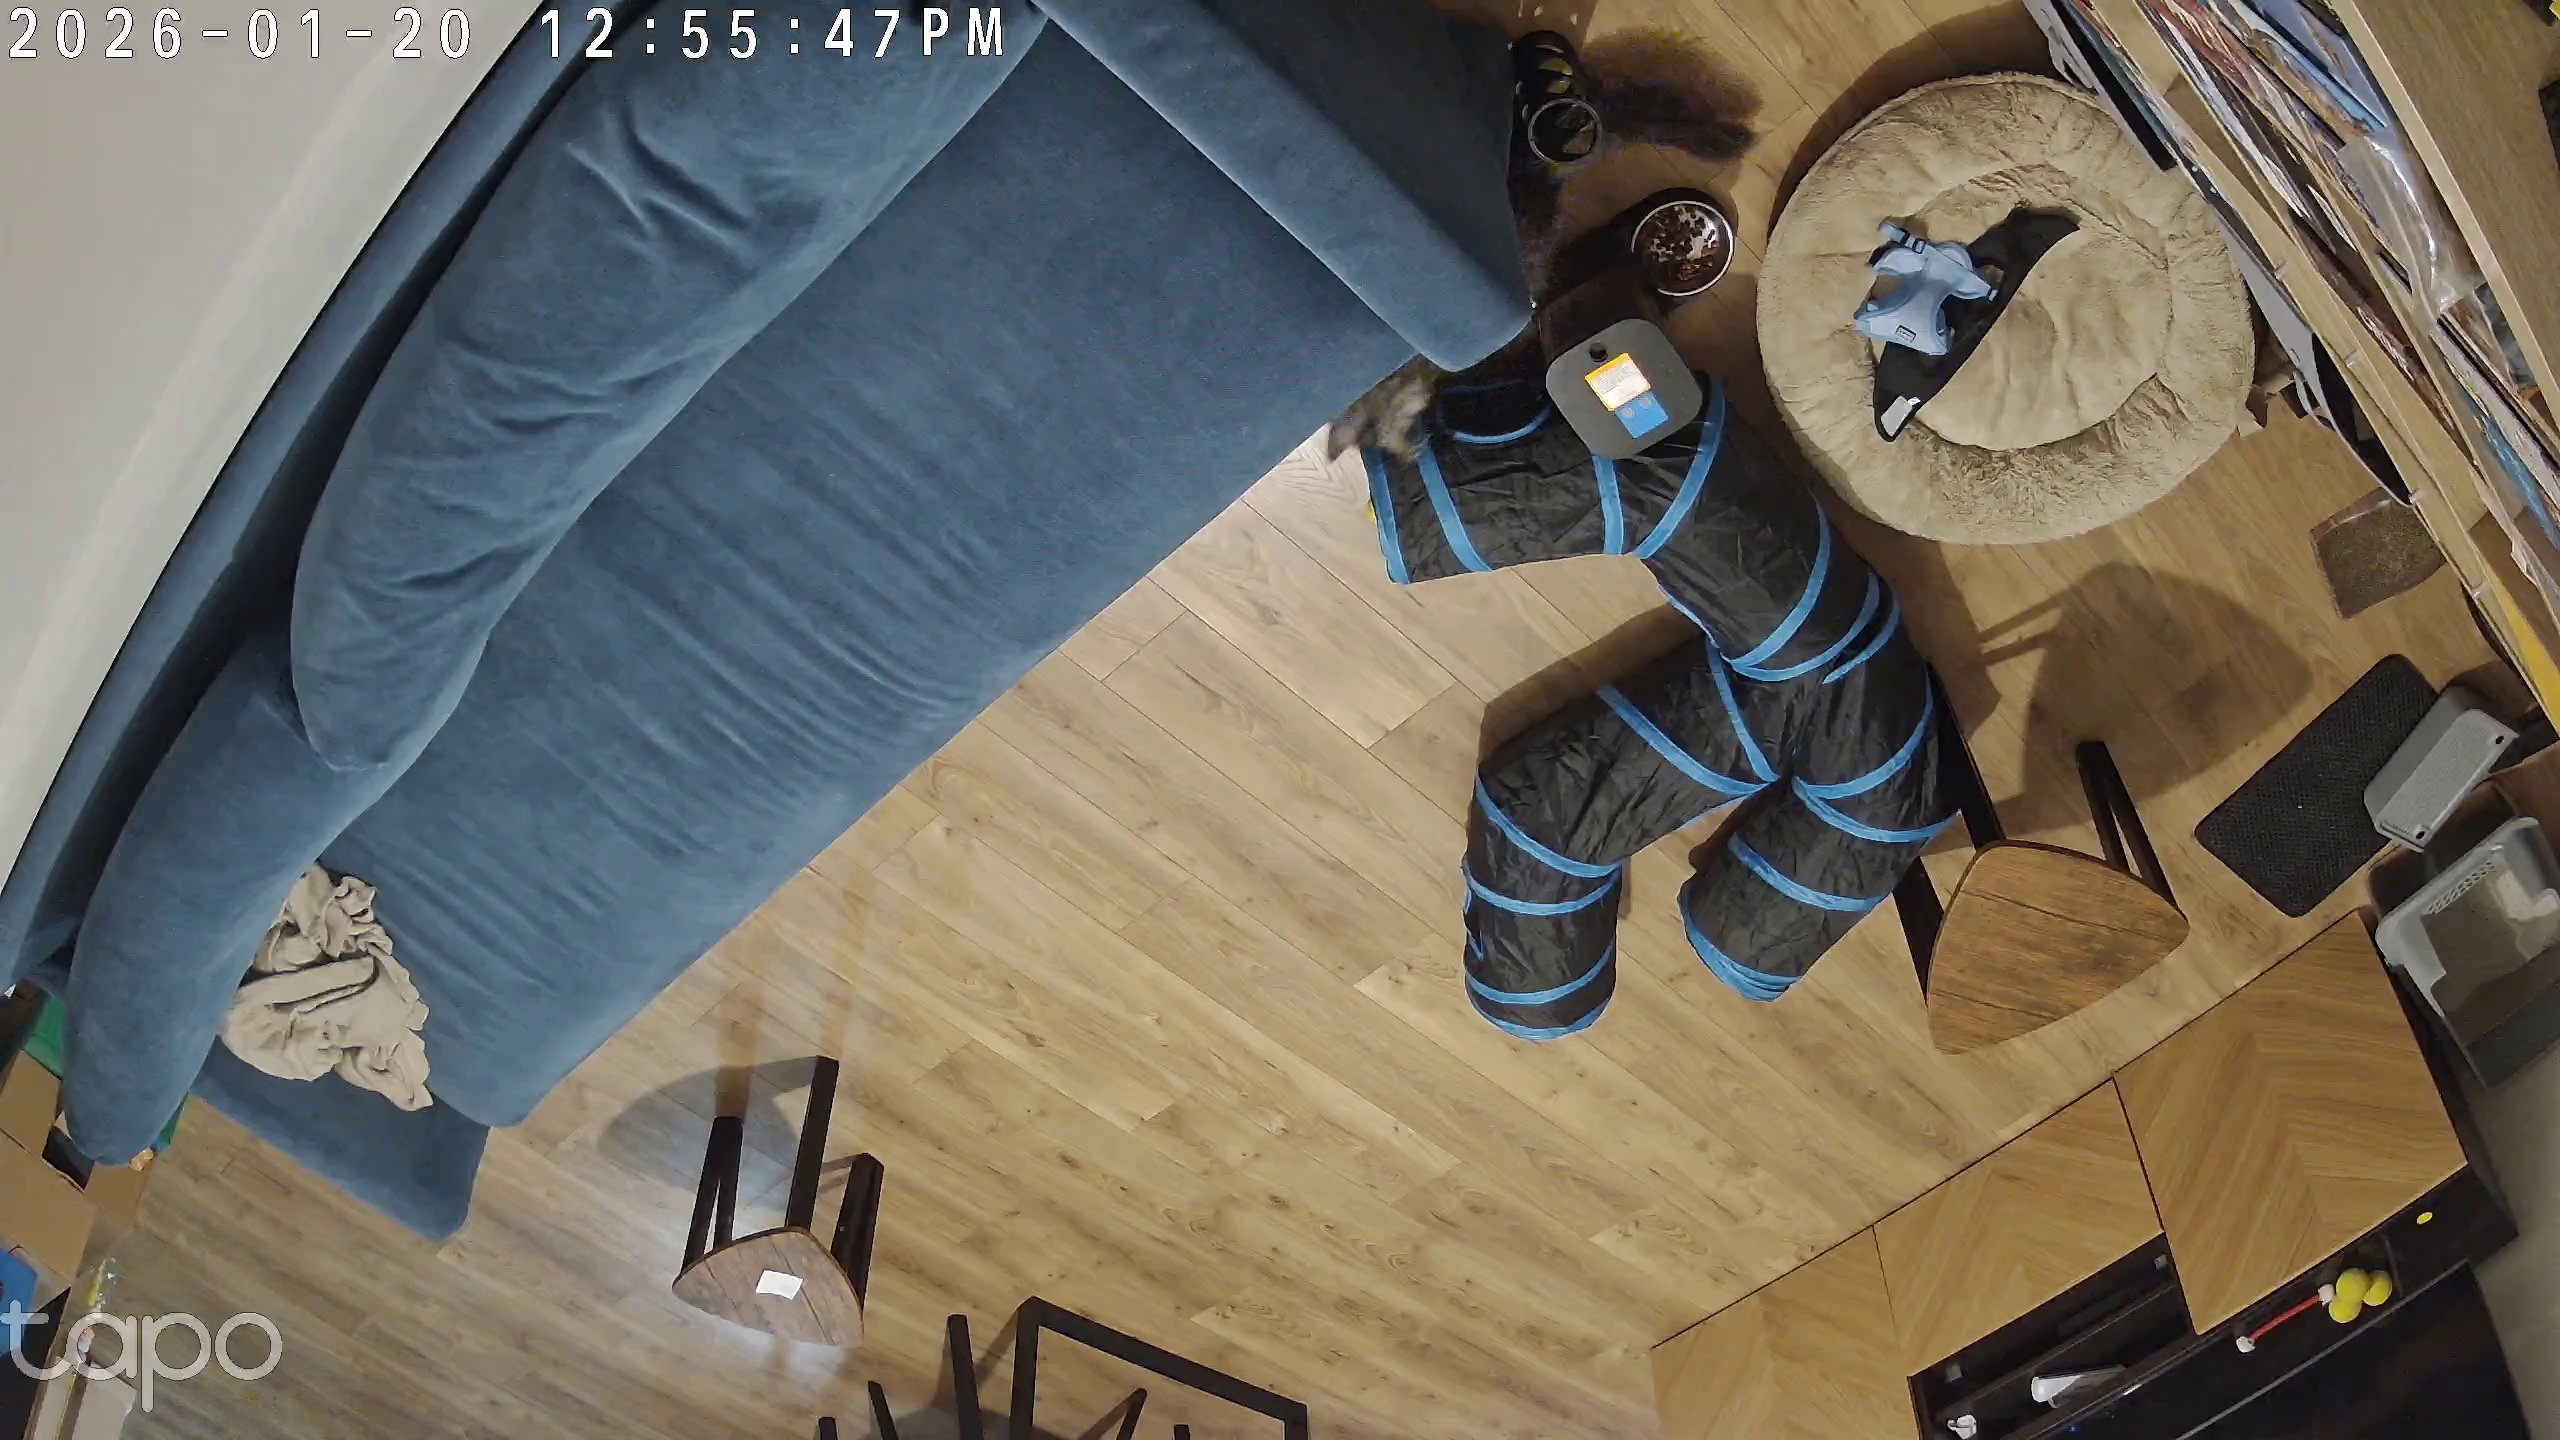Nala: (1310, 107, 1579, 485)
